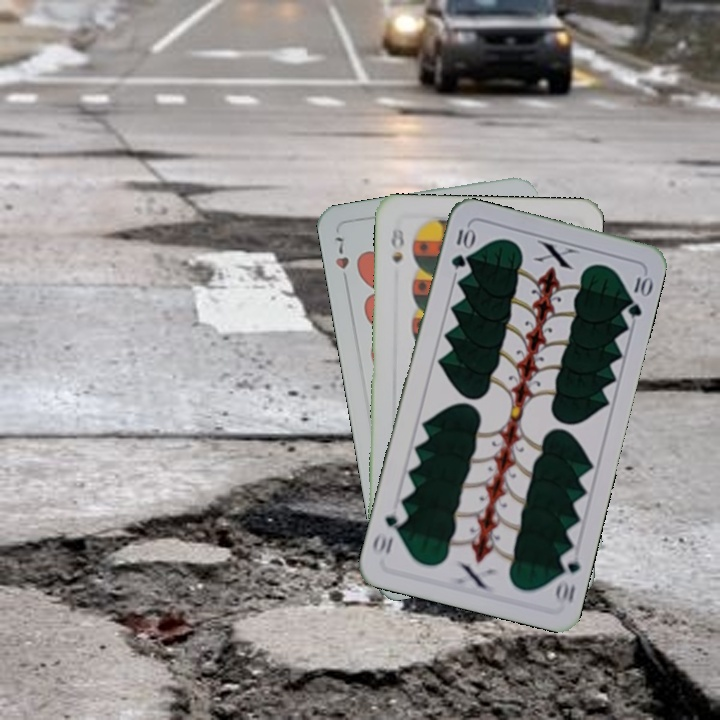G10: (551, 546, 583, 607), (447, 224, 476, 272)
H7: (330, 233, 352, 288)
S8: (387, 224, 407, 265)
